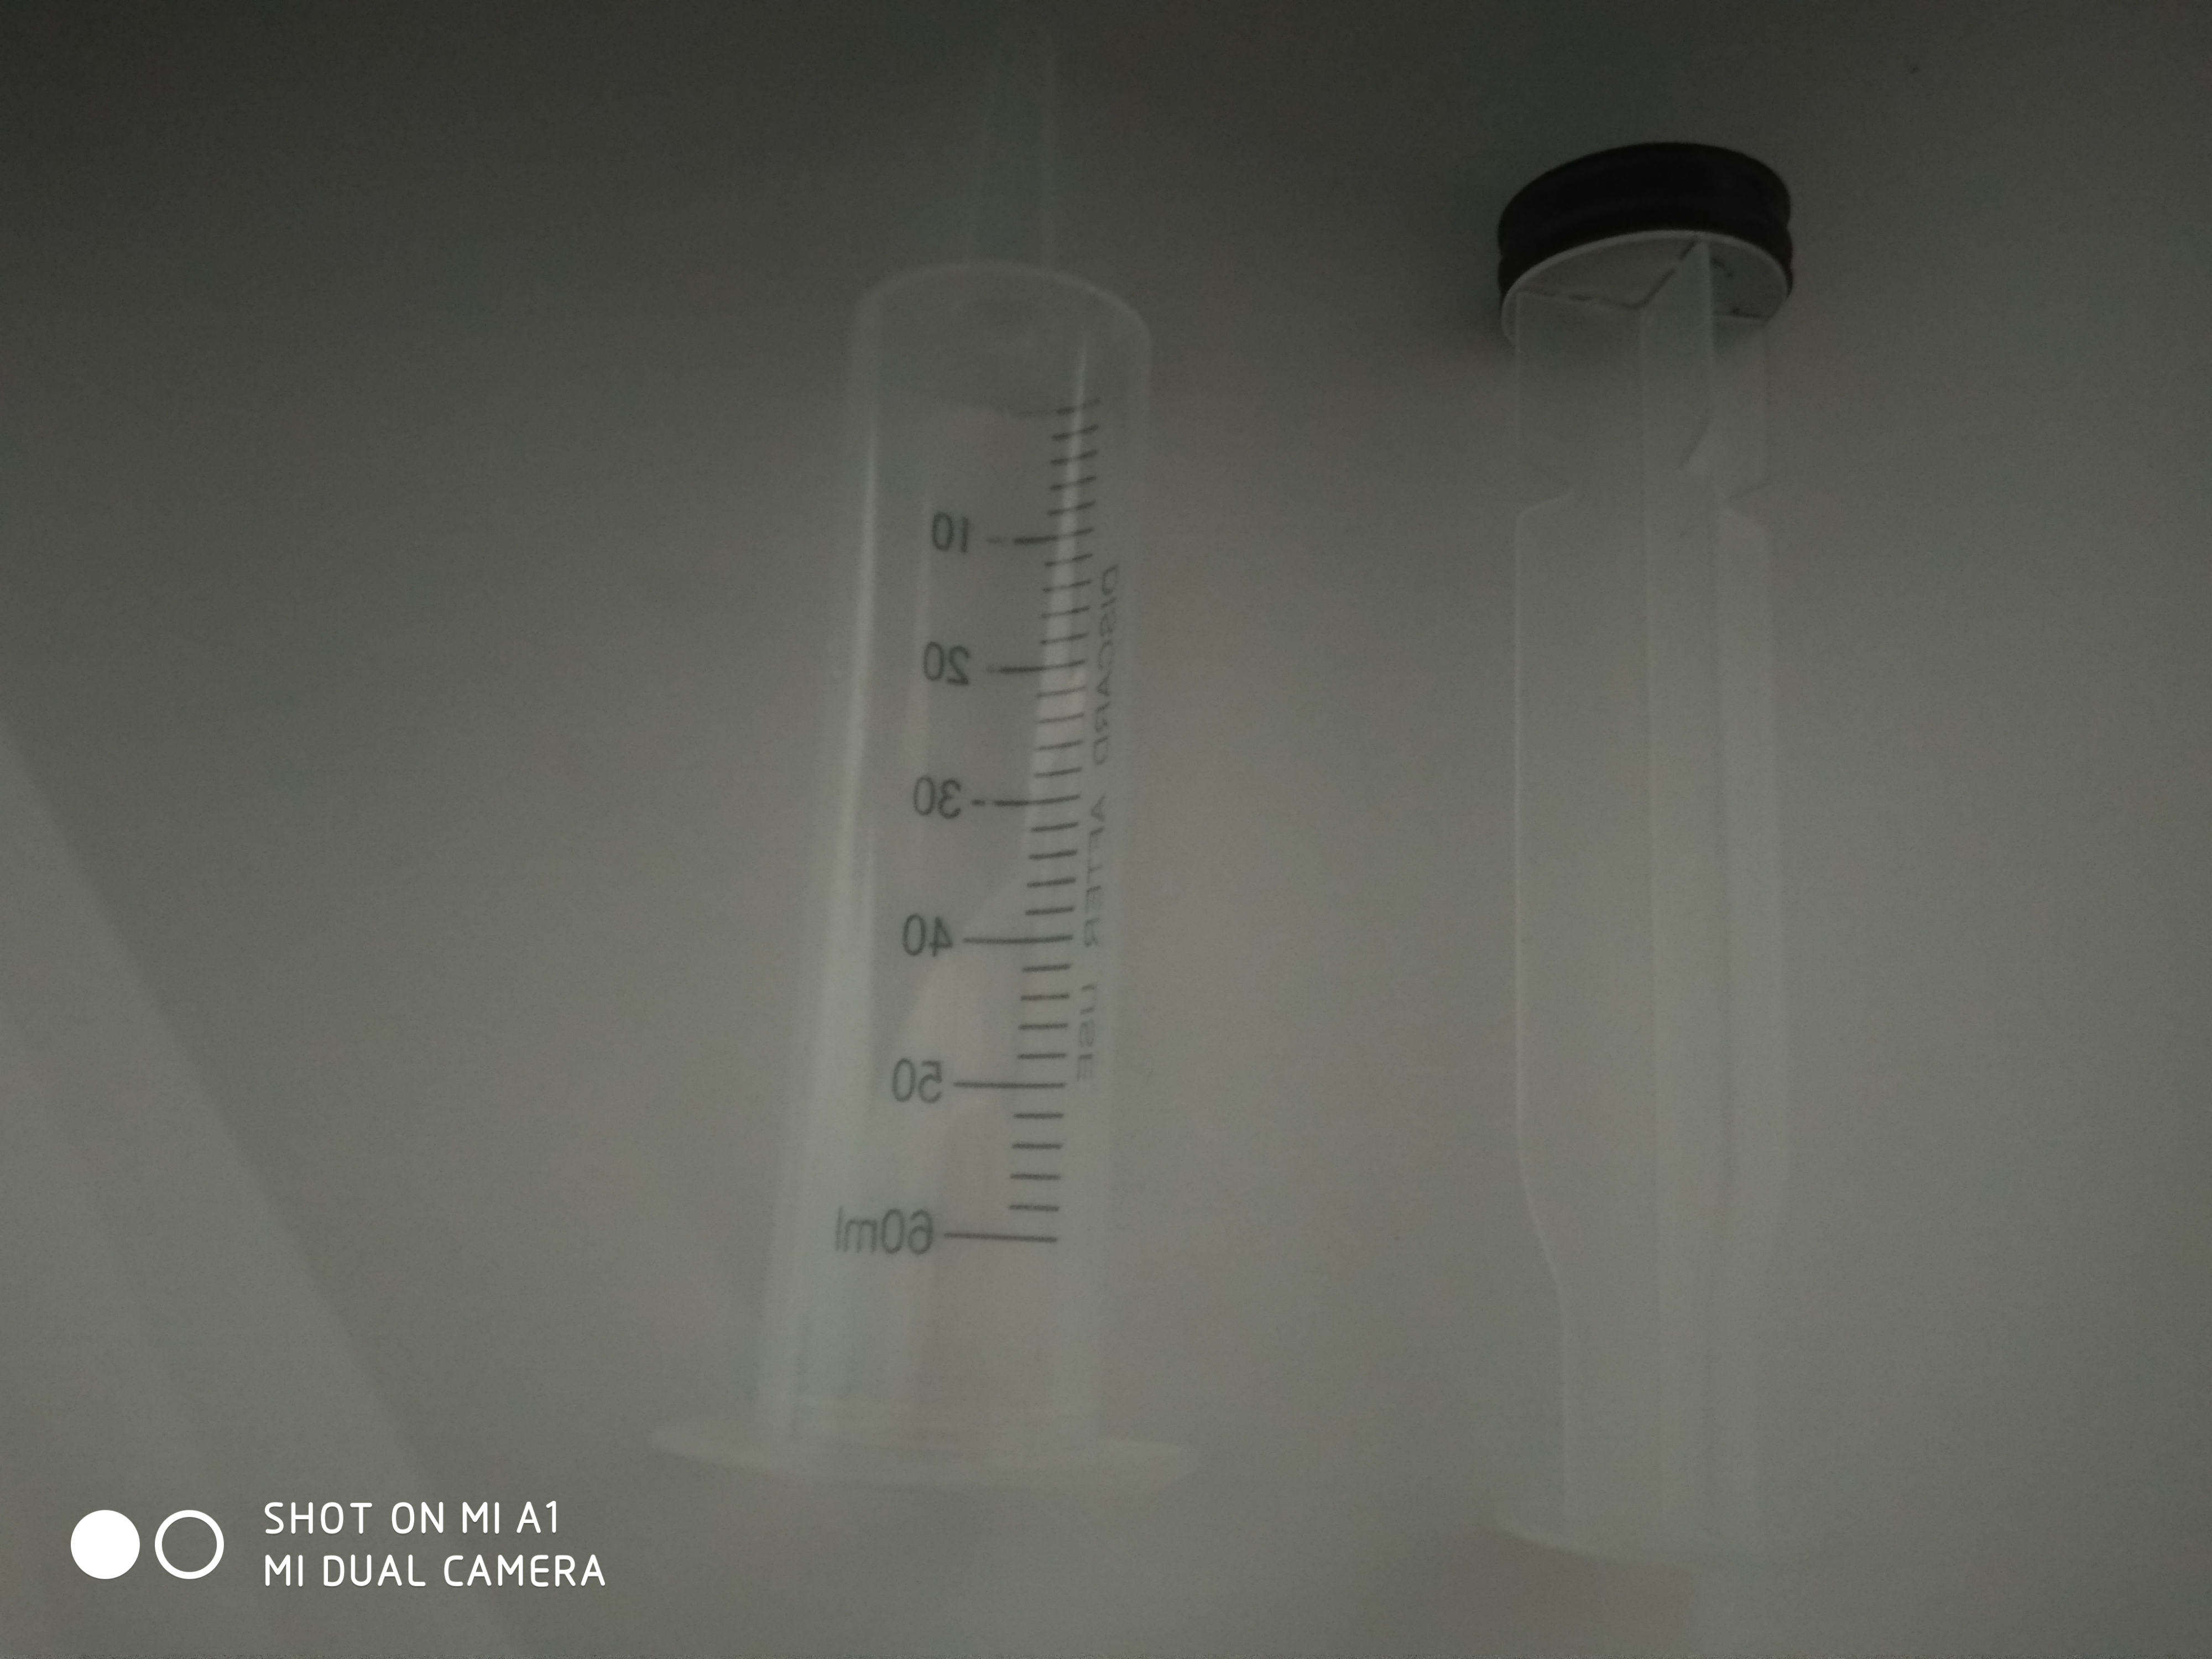plunger: (1489, 139, 1839, 1582)
syringe: (644, 10, 1204, 1497)
